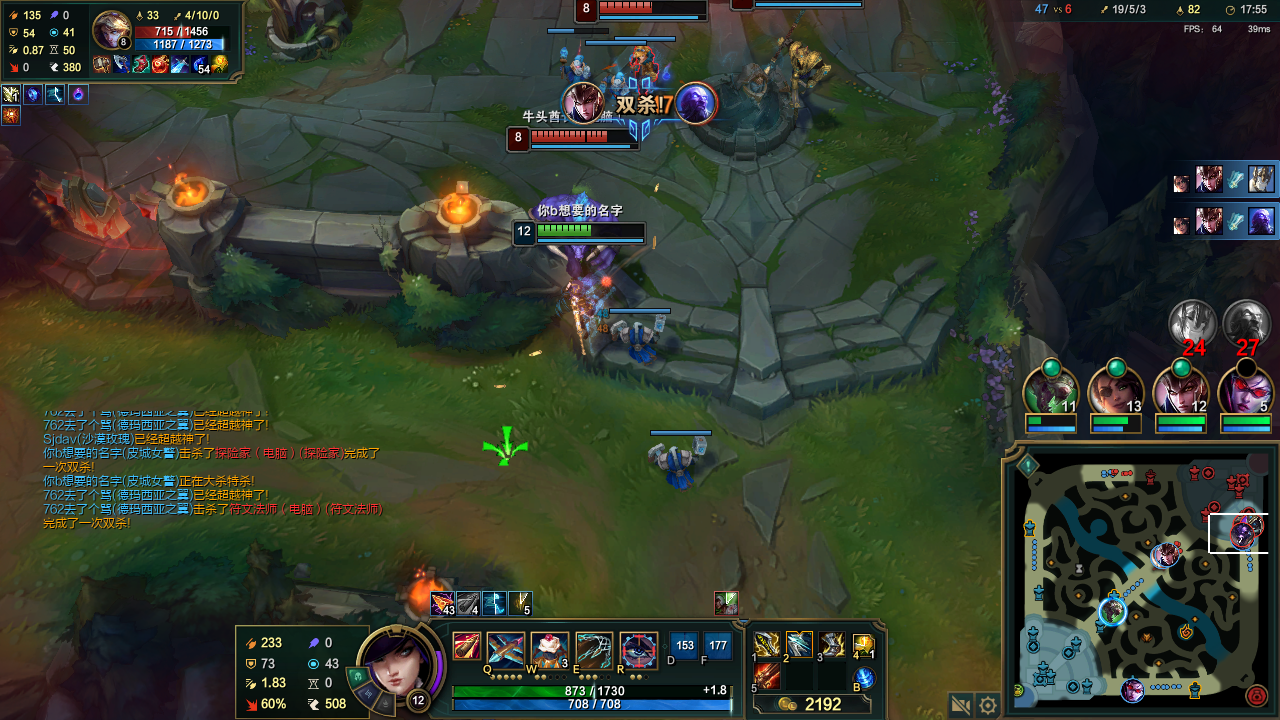DFYX: (525, 131, 634, 145), (594, 3, 706, 14)
WFXB: (648, 443, 702, 487), (615, 320, 666, 365), (598, 61, 629, 105), (561, 51, 589, 79)
